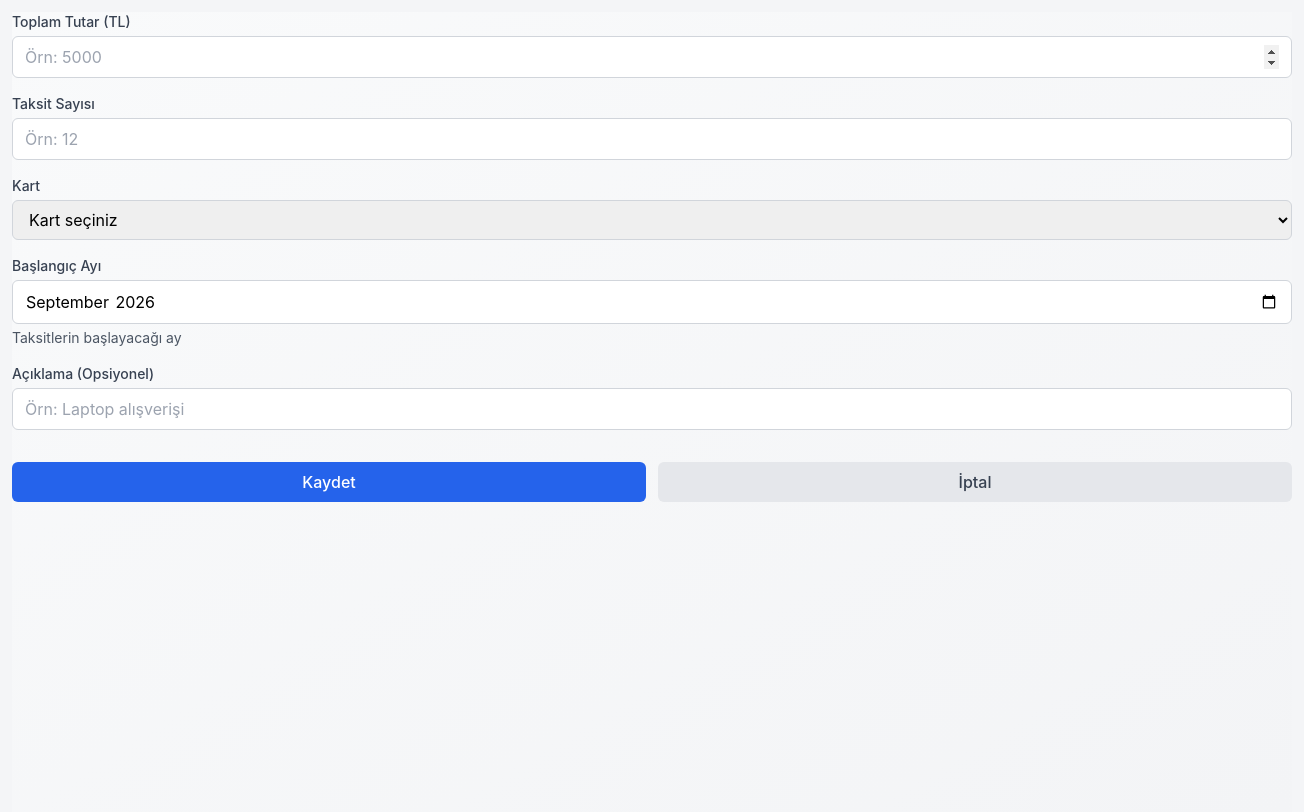
Test case: InstallmentForm › should show error when no start month is provided
The image size is (1304, 812).
Type "1000" into the number field labelled "Toplam Tutar (TL)" at (652, 57), box [12,36,1292,78]
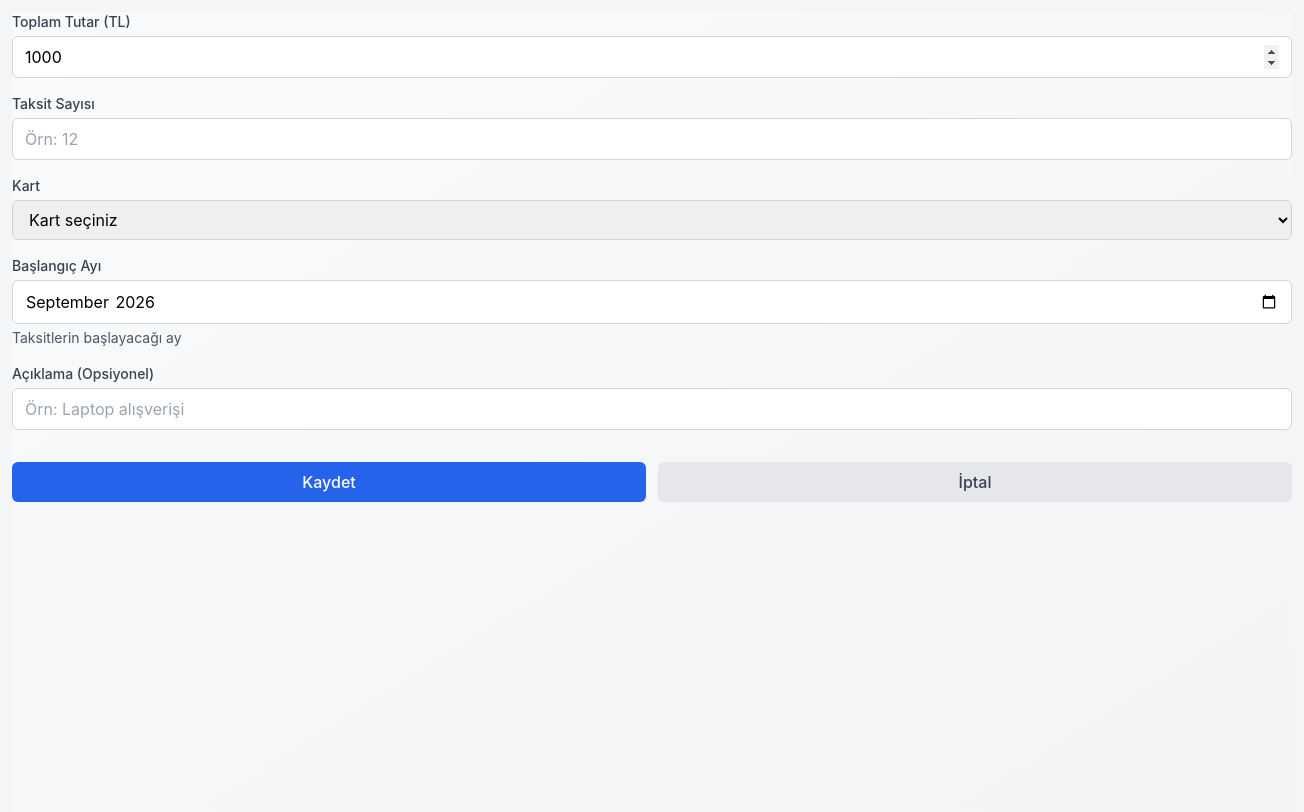
Type "12" into the number field labelled "Taksit Sayısı" at (652, 139), box [12,118,1292,160]
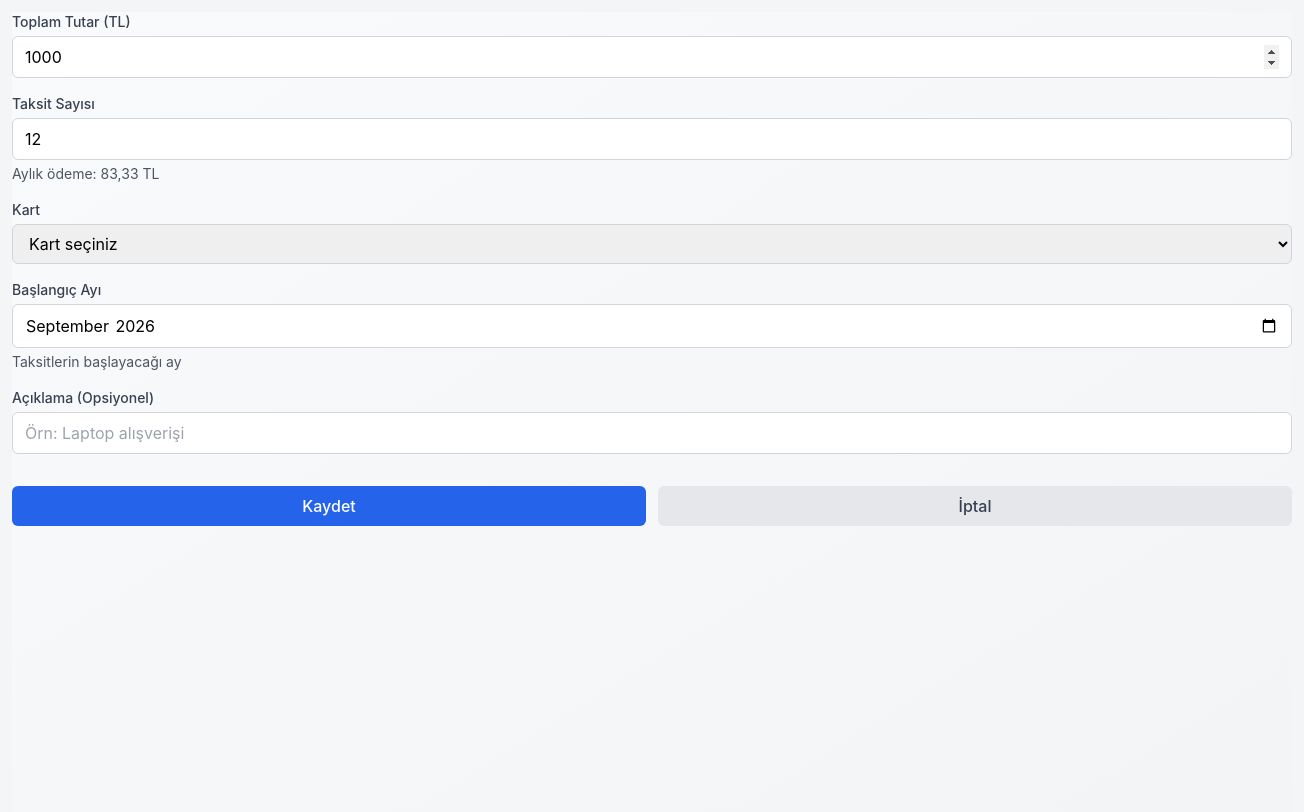
Select "Test Card (Kredi Kartı)" in the dropdown labelled "Kart" at (652, 244), box [12,224,1292,264]
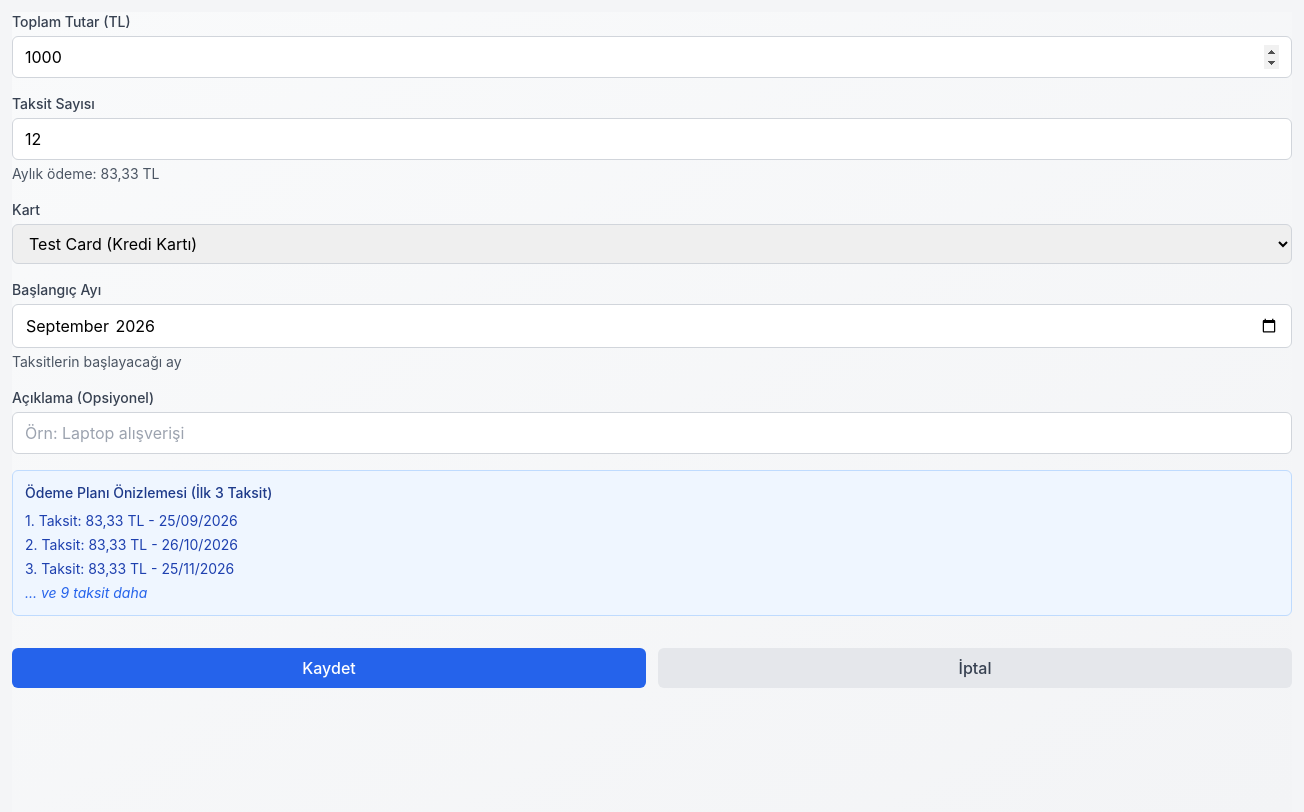
Clear the field labelled "Başlangıç Ayı" at (652, 326), box [12,304,1292,348]
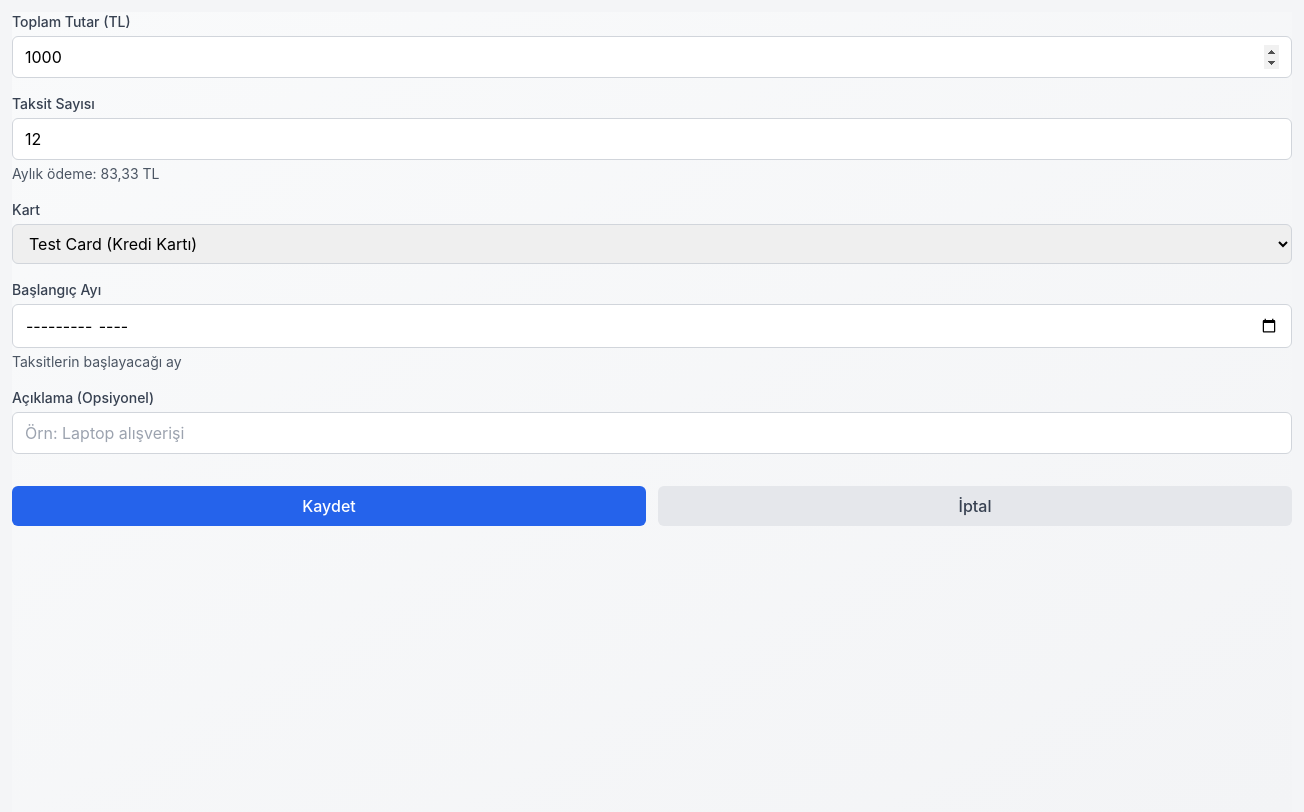
Click the button "Kaydet" at (329, 506), box [12,486,646,526]
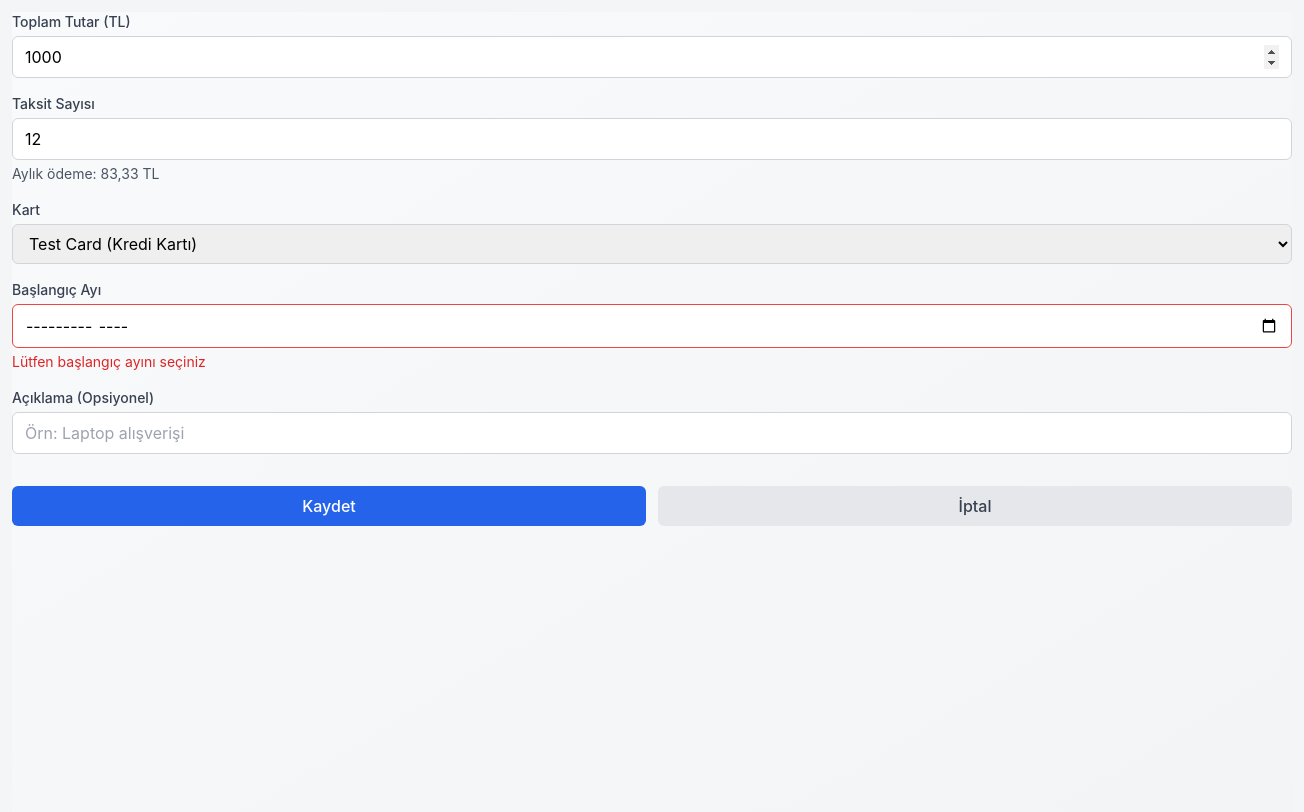
Now the text "Lütfen başlangıç ayını seçiniz" is shown, box [12,353,206,370]
